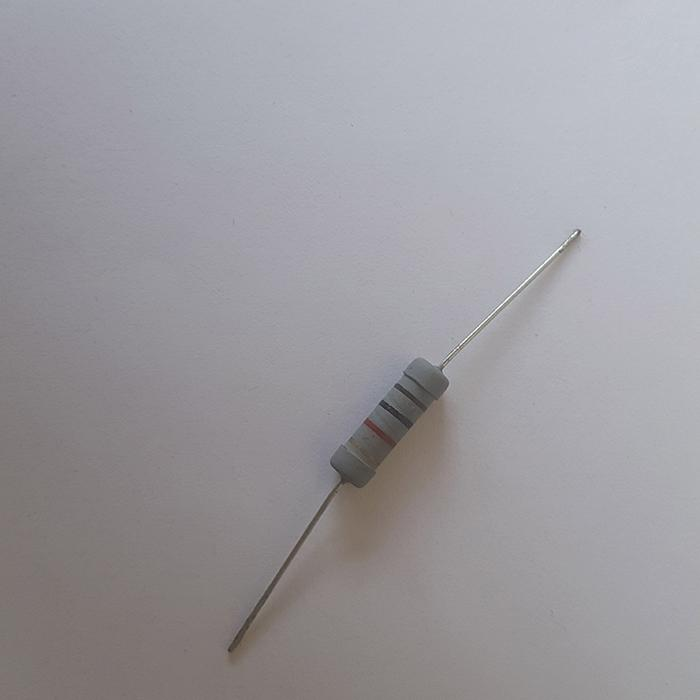resistor: (331, 356, 447, 488)
